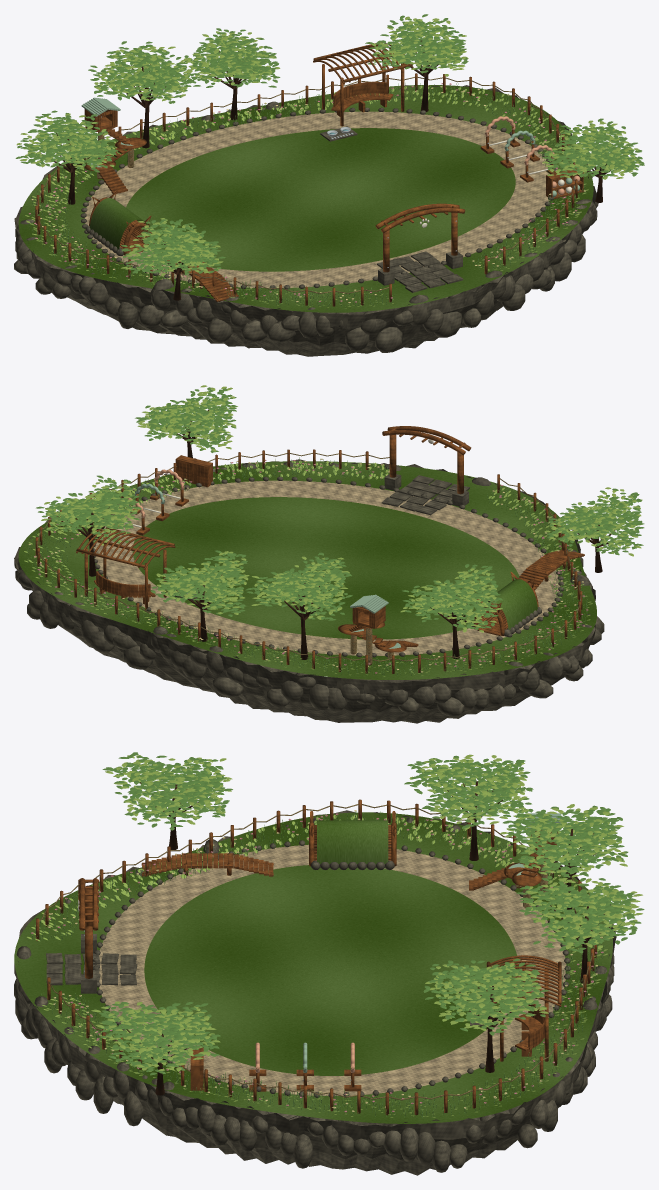
The model's file is park.glb.
3 views of the same model, one above another, from view 1: azimuth 30°, elevation 25°; view 2: azimuth 150°, elevation 25°; view 3: azimuth 270°, elevation 25° (orthographic). The views are drawn at different scales.
Parts seen in each view (by area): view 1: 01 Palm terrain_Living turf, 01 Palm terrain_Layered limestone, 12 Trees and planting_Leaf green, 02 Paths_Warm gravel, 12 Trees and planting_Leaf sun tips, 02 Paths_Layered limestone, 04 Boundary_Honey oak, 09 Shade bench_Honey oak, 12 Trees and planting_Weathered bark, 08 Cat tree_Honey oak, 03 Entrance_Honey oak, 05 Ear tunnel_Living turf (+7 smaller); view 2: 01 Palm terrain_Living turf, 01 Palm terrain_Layered limestone, 12 Trees and planting_Leaf green, 02 Paths_Warm gravel, 12 Trees and planting_Leaf sun tips, 02 Paths_Layered limestone, 04 Boundary_Honey oak, 09 Shade bench_Honey oak, 12 Trees and planting_Weathered bark, 03 Entrance_Honey oak, 08 Cat tree_Honey oak, 04 Boundary_Woven natural fibre (+8 smaller); view 3: 01 Palm terrain_Living turf, 12 Trees and planting_Leaf green, 01 Palm terrain_Layered limestone, 02 Paths_Warm gravel, 12 Trees and planting_Leaf sun tips, 04 Boundary_Honey oak, 02 Paths_Layered limestone, 05 Ear tunnel_Living turf, 09 Shade bench_Honey oak, 06 Balance bridge_Honey oak, 12 Trees and planting_Weathered bark, 04 Boundary_Woven natural fibre (+7 smaller).
Boxes of the visible parts, x1,y1,x2,y2 form: 01 Palm terrain_Living turf: (18, 85, 593, 312); 01 Palm terrain_Layered limestone: (14, 85, 598, 356); 12 Trees and planting_Leaf green: (15, 14, 644, 308); 02 Paths_Warm gravel: (84, 111, 549, 288); 12 Trees and planting_Leaf sun tips: (16, 16, 640, 308); 02 Paths_Layered limestone: (80, 107, 556, 292); 04 Boundary_Honey oak: (35, 73, 577, 306); 09 Shade bench_Honey oak: (313, 42, 412, 126); 12 Trees and planting_Weathered bark: (41, 40, 610, 300); 08 Cat tree_Honey oak: (84, 109, 146, 193); 03 Entrance_Honey oak: (375, 203, 465, 272); 05 Ear tunnel_Living turf: (89, 198, 147, 249); 01 Palm terrain_Living turf: (18, 461, 596, 679); 01 Palm terrain_Layered limestone: (14, 459, 604, 723); 12 Trees and planting_Leaf green: (27, 387, 644, 675); 02 Paths_Warm gravel: (94, 480, 560, 655); 12 Trees and planting_Leaf sun tips: (24, 385, 642, 676); 02 Paths_Layered limestone: (93, 475, 564, 657); 04 Boundary_Honey oak: (35, 449, 582, 673); 09 Shade bench_Honey oak: (76, 527, 175, 611); 12 Trees and planting_Weathered bark: (67, 409, 615, 659); 03 Entrance_Honey oak: (382, 426, 471, 494); 08 Cat tree_Honey oak: (338, 606, 418, 665); 04 Boundary_Woven natural fibre: (36, 453, 581, 661); 01 Palm terrain_Living turf: (14, 812, 612, 1123); 12 Trees and planting_Leaf green: (30, 752, 644, 1117); 01 Palm terrain_Layered limestone: (14, 810, 616, 1175); 02 Paths_Warm gravel: (97, 844, 566, 1095); 12 Trees and planting_Leaf sun tips: (27, 754, 642, 1117); 04 Boundary_Honey oak: (36, 799, 596, 1115); 02 Paths_Layered limestone: (46, 840, 570, 1097); 05 Ear tunnel_Living turf: (317, 820, 388, 867); 09 Shade bench_Honey oak: (486, 955, 561, 1061); 06 Balance bridge_Honey oak: (141, 853, 273, 876); 12 Trees and planting_Weathered bark: (126, 779, 613, 1095); 04 Boundary_Woven natural fibre: (39, 804, 594, 1100).
Bounding box in the file's own units: 28.47 × 10.13 × 23.92.
Materials: 15 (6 with a texture image).
